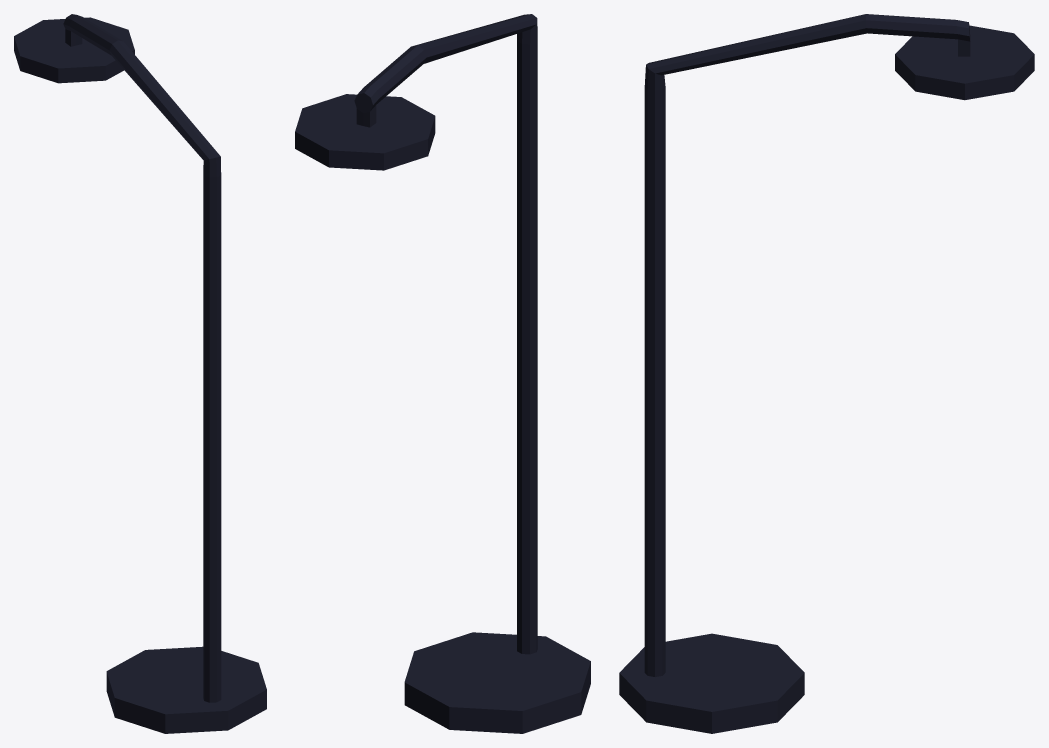
The model's file is Interior_Lamp_TollDisc.fbx.
3 views of the same model, side by side, from view 1: azimuth 30°, elevation 25°; view 2: azimuth 150°, elevation 25°; view 3: azimuth 270°, elevation 25° (orthographic). The views are drawn at different scales.
Visible parts, largest first — view 1: Cylinder.016; view 2: Cylinder.016; view 3: Cylinder.016.
Boxes of the visible parts, bbox=[...] form: Cylinder.016: bbox=[14, 14, 266, 733]; Cylinder.016: bbox=[295, 14, 590, 733]; Cylinder.016: bbox=[619, 14, 1034, 733].
Bounding box in the file's own units: 40.98 × 166 × 91.76.
